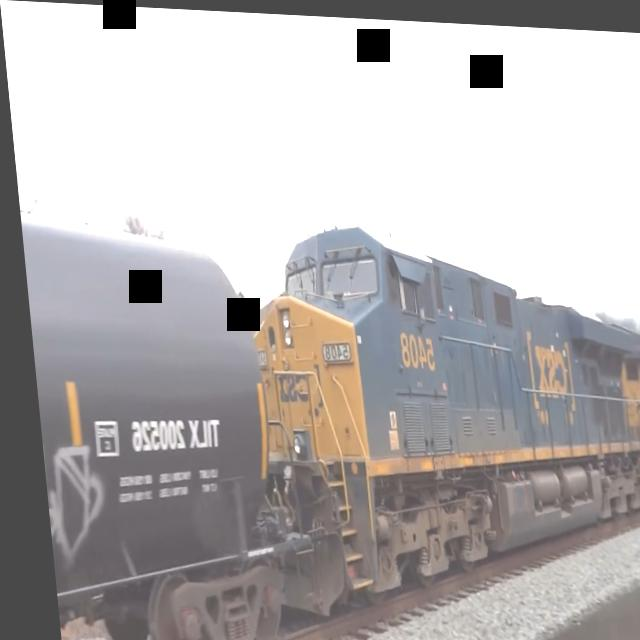locomotive: (225, 199, 632, 618), (621, 320, 640, 504)
tank: (9, 102, 276, 640)
